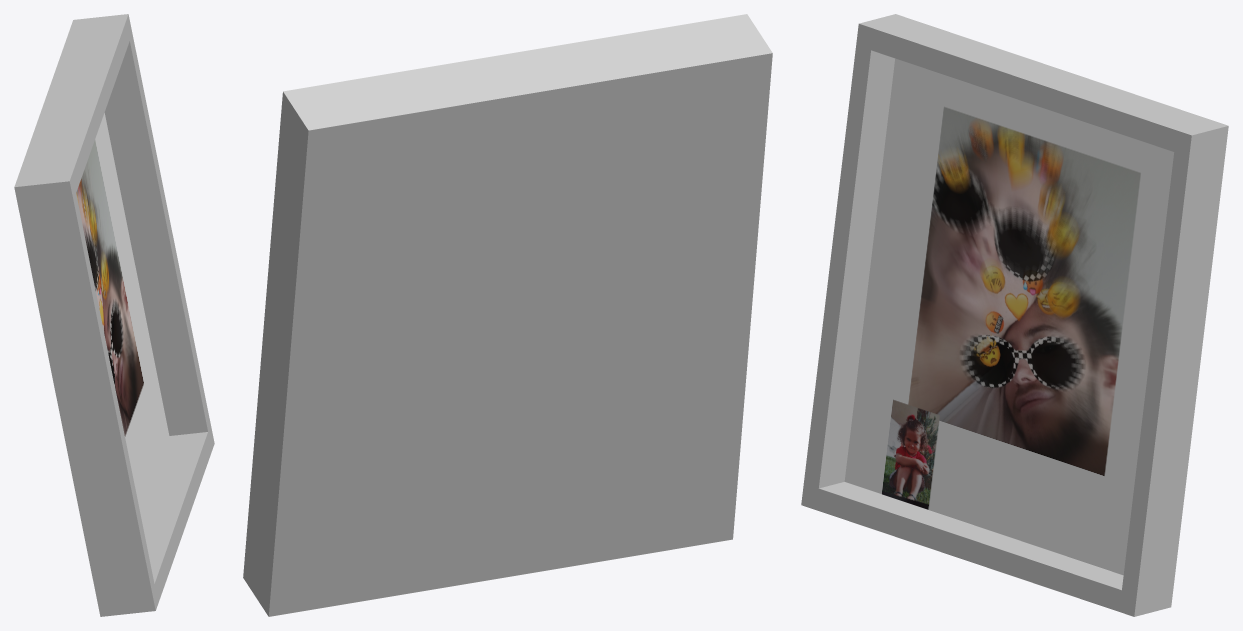
The model's file is Cuadro lucia.glb.
The picture shows the model from 3 angles, left to right: view 1: azimuth 30°, elevation 25°; view 2: azimuth 150°, elevation 25°; view 3: azimuth 270°, elevation 25°; orthographic projection. The views are drawn at different scales.
Visible parts, largest first — view 1: Escritorio_Cuadro lucia; view 2: Escritorio_Cuadro lucia; view 3: Escritorio_Cuadro lucia.
Boxes of the visible parts, x1,y1,x2,y2 form: Escritorio_Cuadro lucia: (14,14,214,616); Escritorio_Cuadro lucia: (243,14,772,616); Escritorio_Cuadro lucia: (801,14,1228,616).
Bounding box in the file's own units: 0.1714 × 0.2272 × 0.191.
2 materials, 1 textured.
